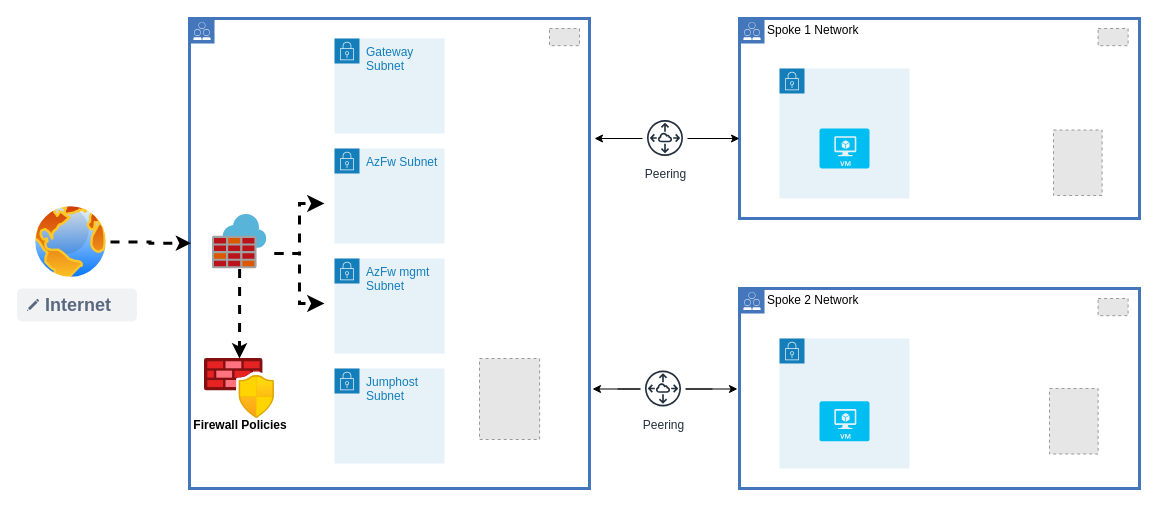
Some shapes in this 1158 by 507 pixel diagram are drawn without their labels. Grey dashed boxes stand in for pictures. Here are the shapes that lost their labels. From the top down, the box of each, then its label:
(778, 68, 910, 198): Spoke 1 Subnet
(212, 214, 266, 268): Az Firewall
(188, 16, 590, 490): Hub Network
(778, 338, 910, 468): Spoke 2 Subnet
